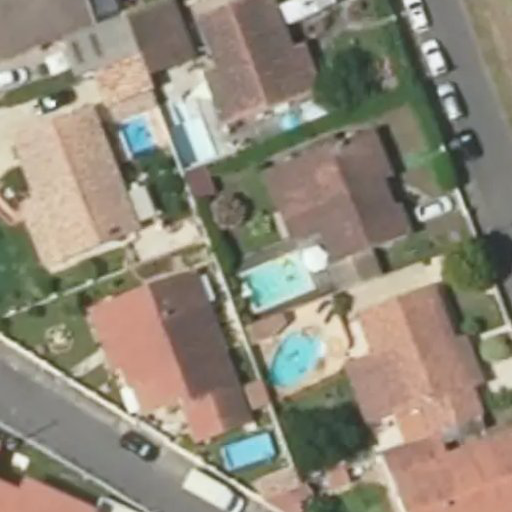pool: (221, 234, 290, 249)
